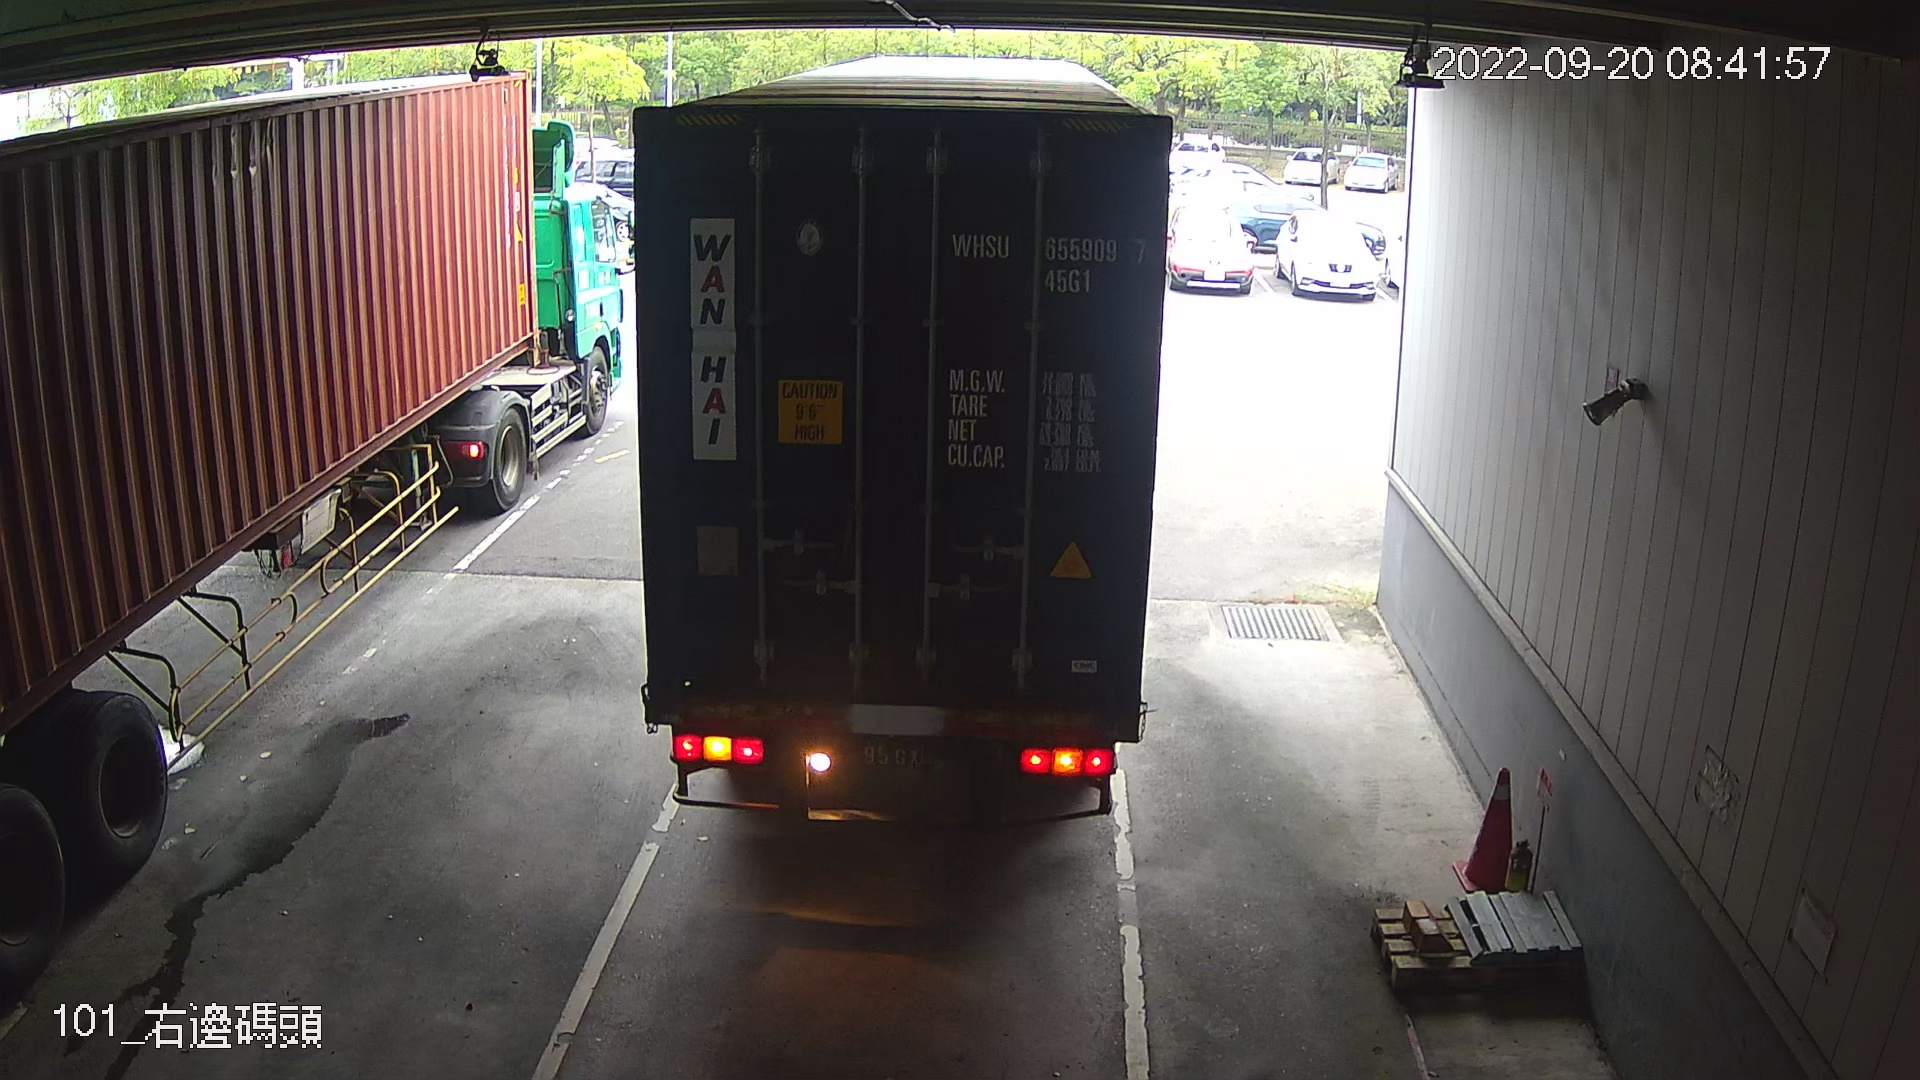container: (942, 222, 1156, 305)
